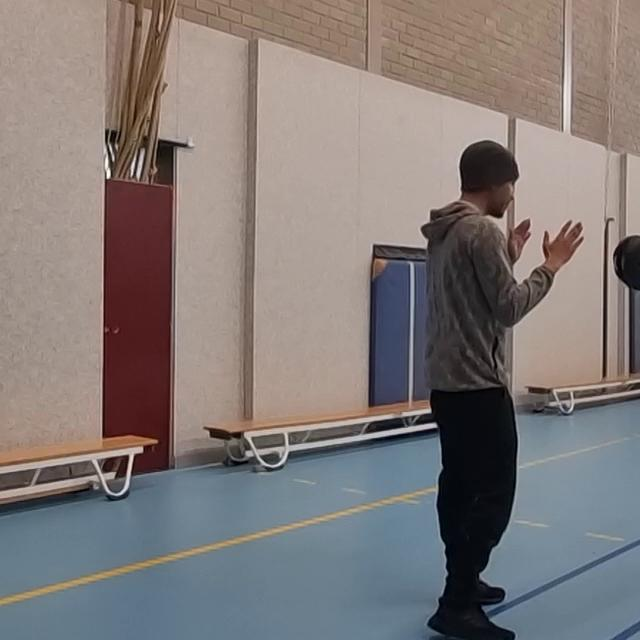paddle: (606, 229, 640, 303)
